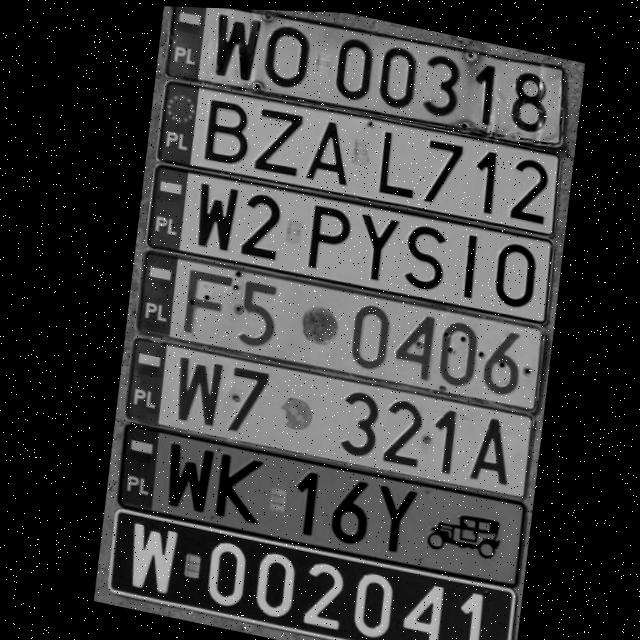license-plates: (118, 426, 525, 586), (147, 168, 553, 322), (158, 81, 560, 234), (168, 6, 564, 143)
